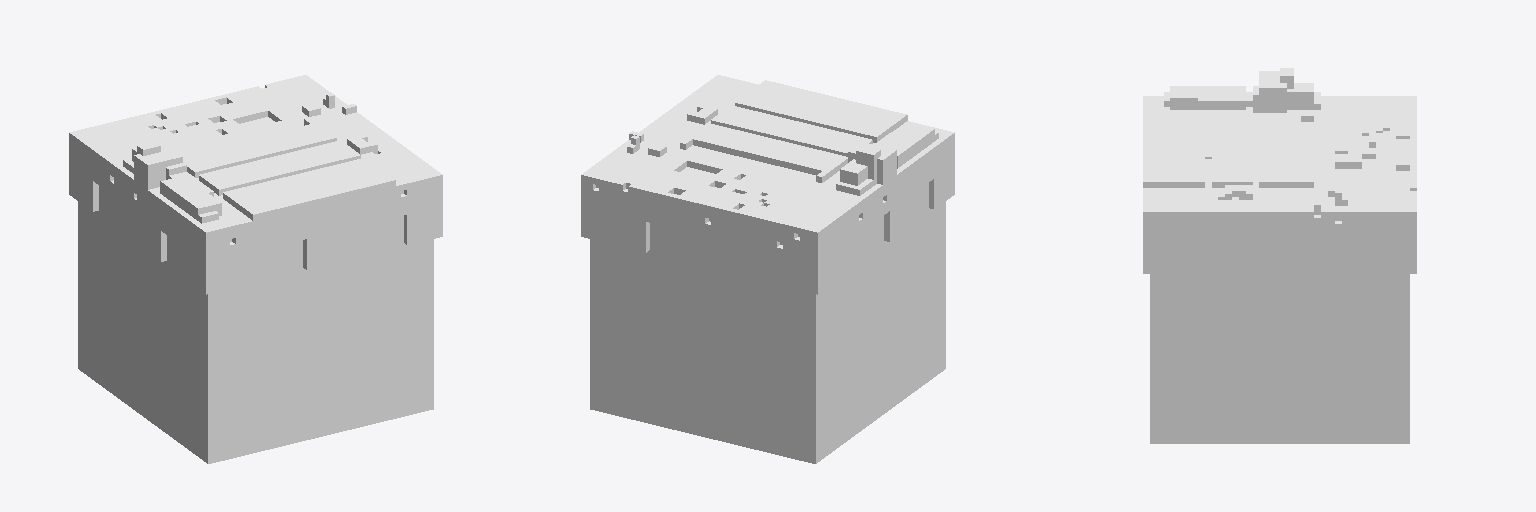
Rendered from tile_base_road_start.obj.
3 views of the same model, side by side, from view 1: azimuth 30°, elevation 25°; view 2: azimuth 150°, elevation 25°; view 3: azimuth 270°, elevation 25° (orthographic).
Visible parts, largest first — view 1: tile_base_road_start; view 2: tile_base_road_start; view 3: tile_base_road_start.
Part boxes in pixels (left/top/right/bottom): tile_base_road_start: left=69, top=75, right=442, bottom=463; tile_base_road_start: left=581, top=75, right=954, bottom=463; tile_base_road_start: left=1143, top=68, right=1416, bottom=443.
Bounding box in the file's own units: 40 × 43 × 40.